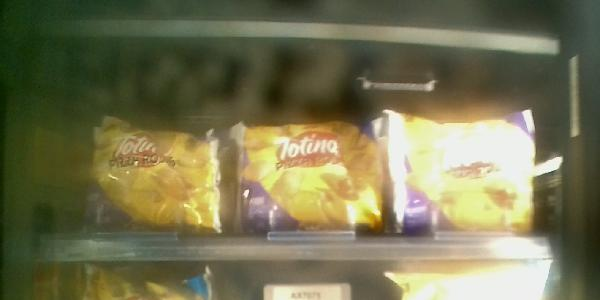icecream: (69, 95, 228, 252), (380, 99, 551, 243), (236, 114, 385, 254)
